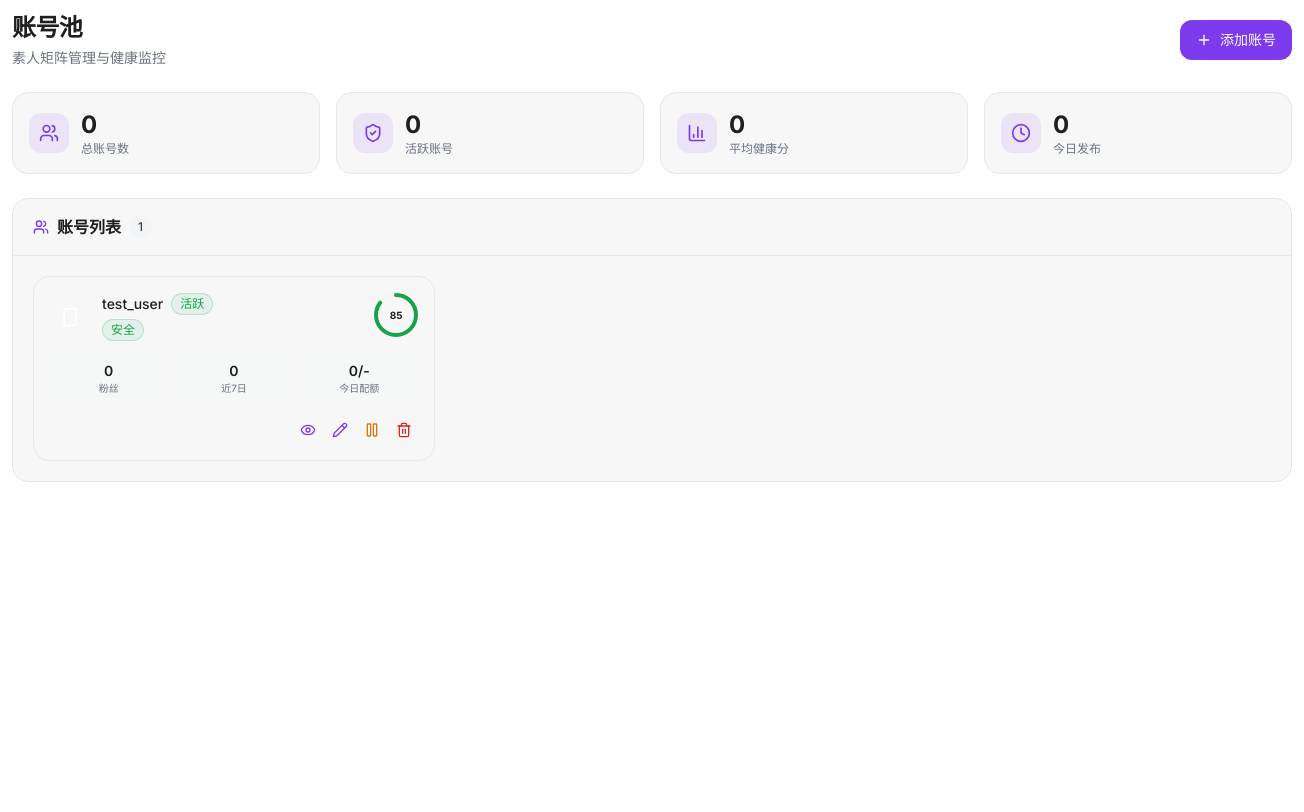
Test case: AccountPoolPage › closes detail panel when opening edit form
What coordinates should you click on to do the following:
click the text "test_user"
I would click on:
 (133, 304)
Its box is x1=102 y1=294 x2=163 y2=314.
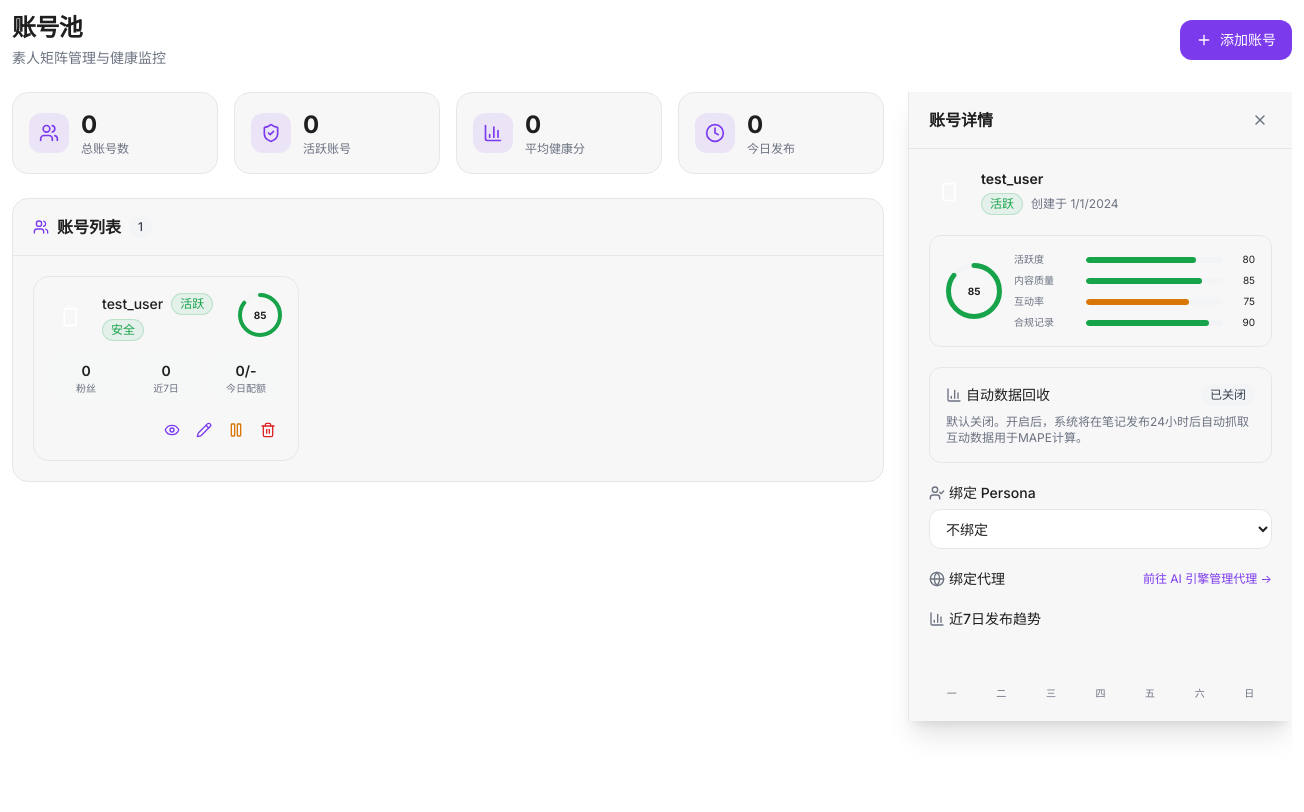
expect the heading "账号详情" is shown: met, box x1=929 y1=108 x2=993 y2=132
What coordinates should you click on to do the following:
click the button titled "编辑"
I would click on:
 (204, 430)
Its box is x1=190 y1=416 x2=218 y2=444.
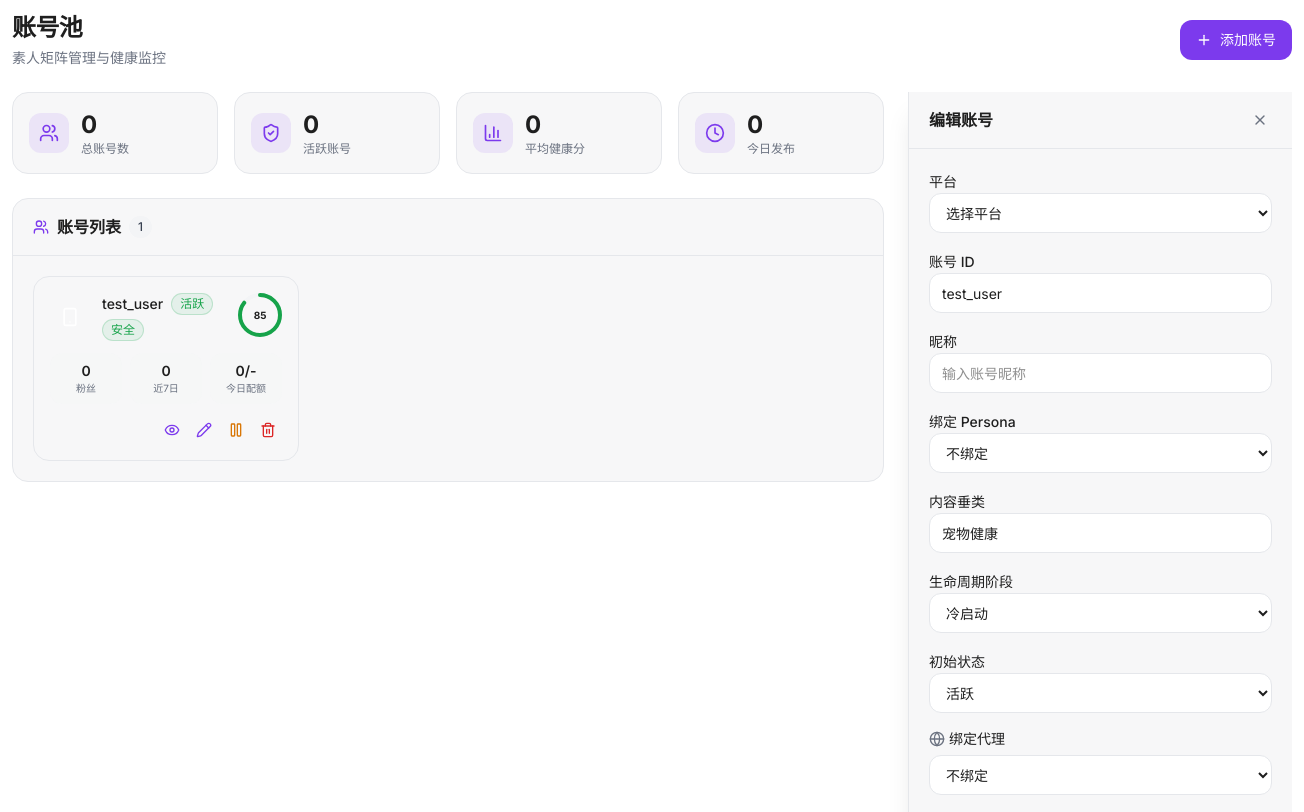
expect the heading "账号详情" is gone: met
expect the heading "编辑账号" is shown: met, box x1=929 y1=108 x2=993 y2=132
